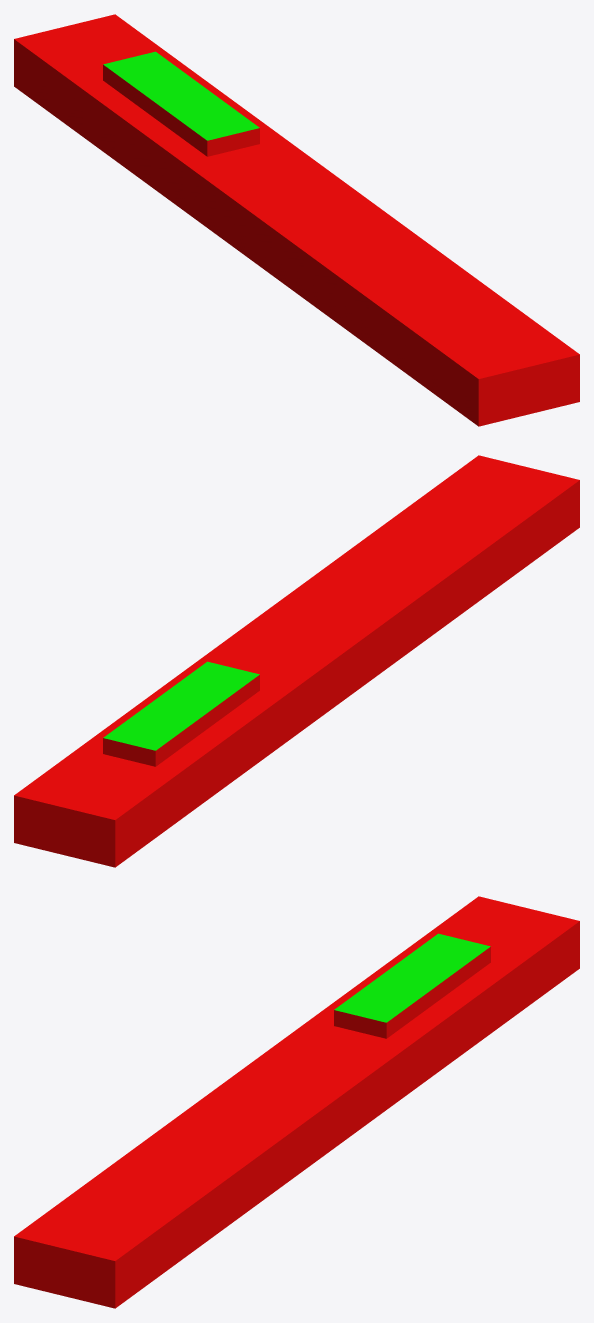
File: labeled.obj
3 views of the same model, one above another, from view 1: azimuth 30°, elevation 25°; view 2: azimuth 150°, elevation 25°; view 3: azimuth 330°, elevation 25° (orthographic).
Bounding box in the file's own units: 0.0179 × 0.0107 × 0.1426.
